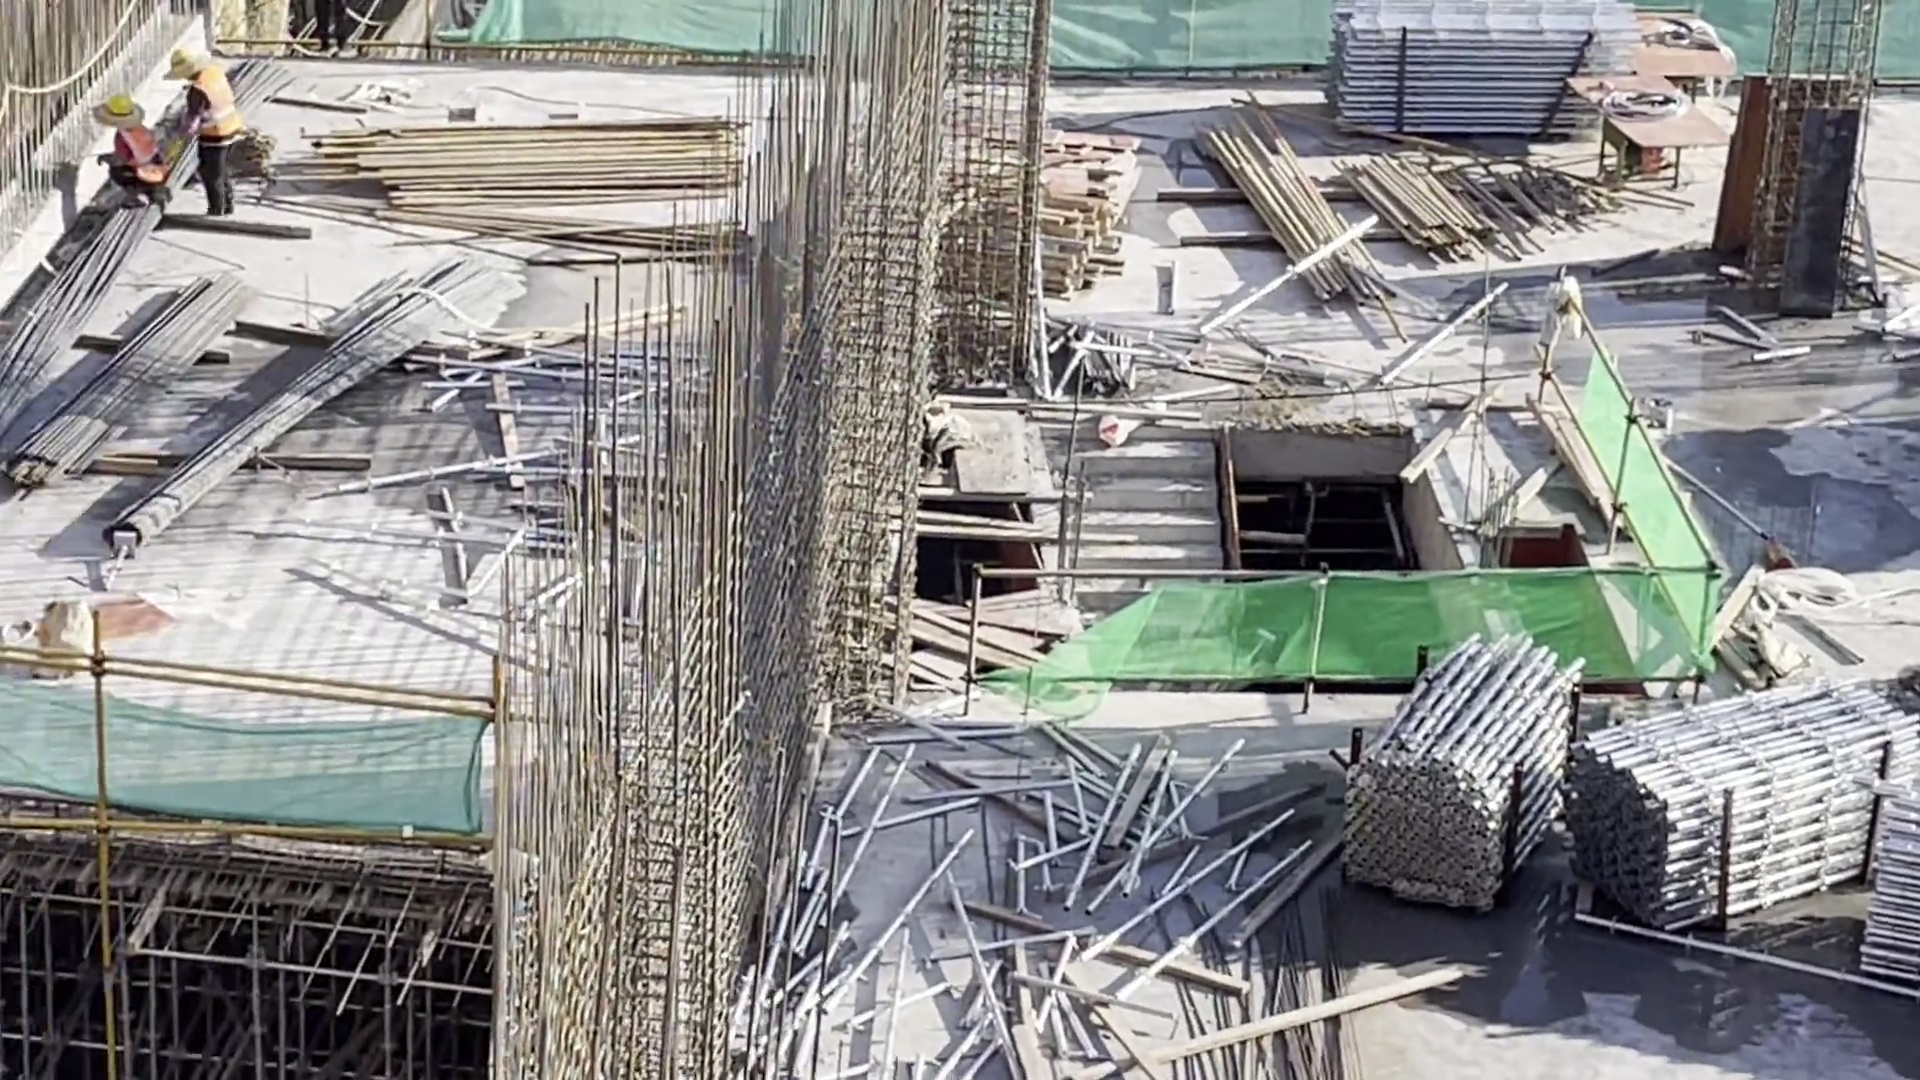cutter: (1595, 89, 1705, 180), (1650, 14, 1724, 87)
helmet: (87, 94, 152, 124), (163, 50, 205, 75)
person: (160, 50, 263, 226), (93, 94, 173, 211)
rebar: (76, 291, 459, 559), (36, 273, 235, 473), (1, 206, 137, 409), (1259, 938, 1392, 1080)
scaffold: (1551, 709, 1873, 913), (1333, 673, 1555, 900), (1351, 7, 1661, 125)
vest: (192, 76, 248, 145), (111, 129, 161, 184)
wood: (937, 182, 1100, 291)
